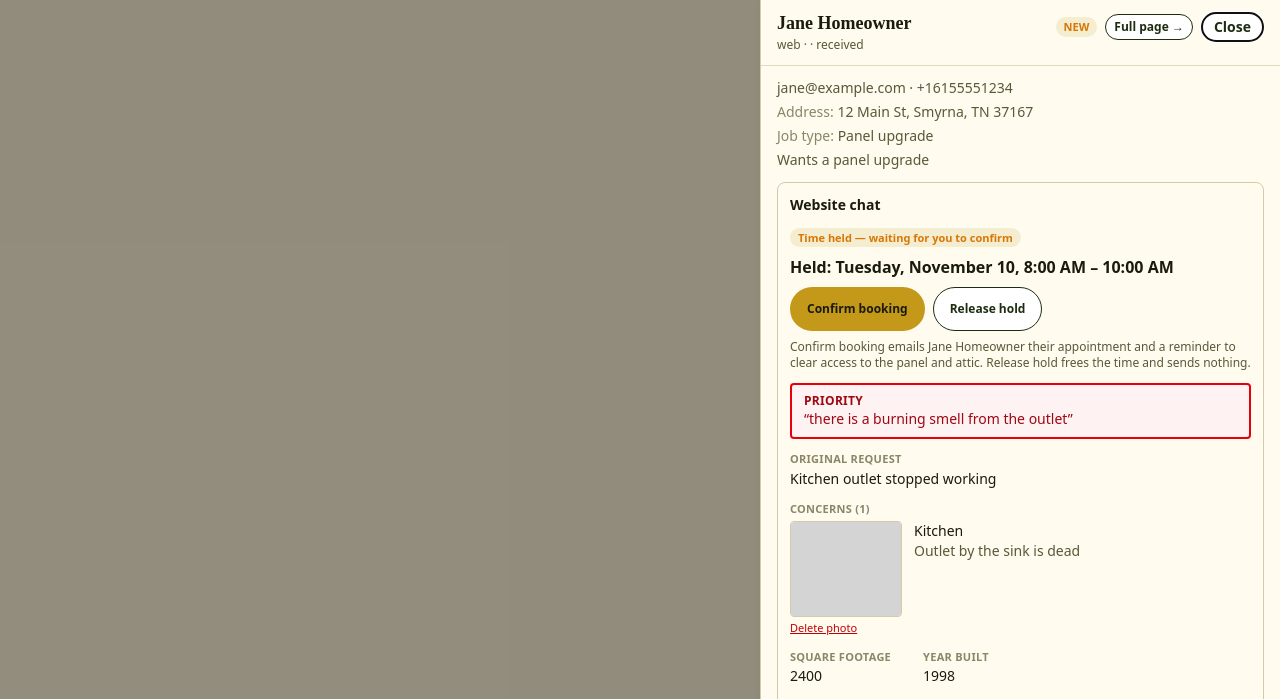
Test case: LeadDrawer — Website chat › each photo has its own Delete photo
Step 1. Click the button with aria-label "Delete photo: Photo — Kitchen" → [824, 627], box [790,620,857,635]
(page scrolled)
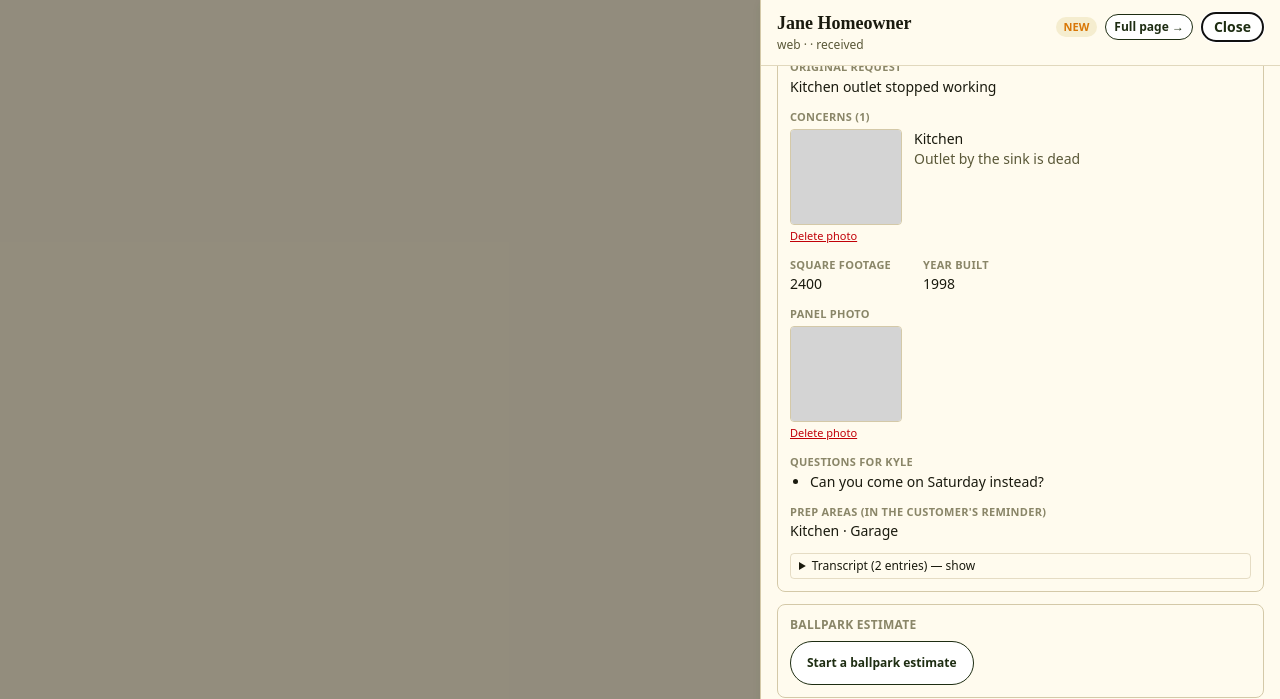
Expected: the button with aria-label "Delete photo: Electrical panel photo" is shown, [790,425,857,441]
